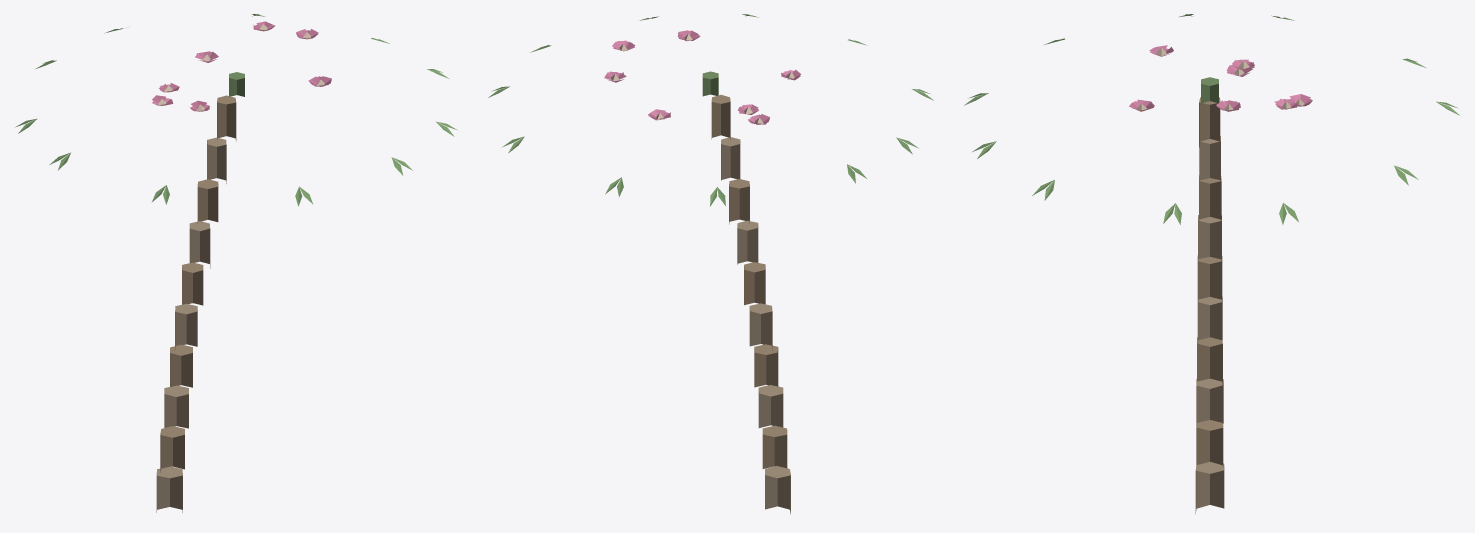
The model's file is shu.yezi@flowering__summer.glb.
3 renders of one model, left to right at view 1: azimuth 30°, elevation 25°; view 2: azimuth 150°, elevation 25°; view 3: azimuth 270°, elevation 25°, orthographic. The views are drawn at different scales.
Visible parts, largest first — view 1: shu.yezi@flowering__summer; view 2: shu.yezi@flowering__summer; view 3: shu.yezi@flowering__summer.
Boxes of the visible parts, left/top/right/bottom form: shu.yezi@flowering__summer: left=15, top=14, right=457, bottom=512; shu.yezi@flowering__summer: left=488, top=14, right=933, bottom=514; shu.yezi@flowering__summer: left=964, top=14, right=1459, bottom=513.
Bounding box in the file's own units: 11.27 × 12.13 × 11.23.
